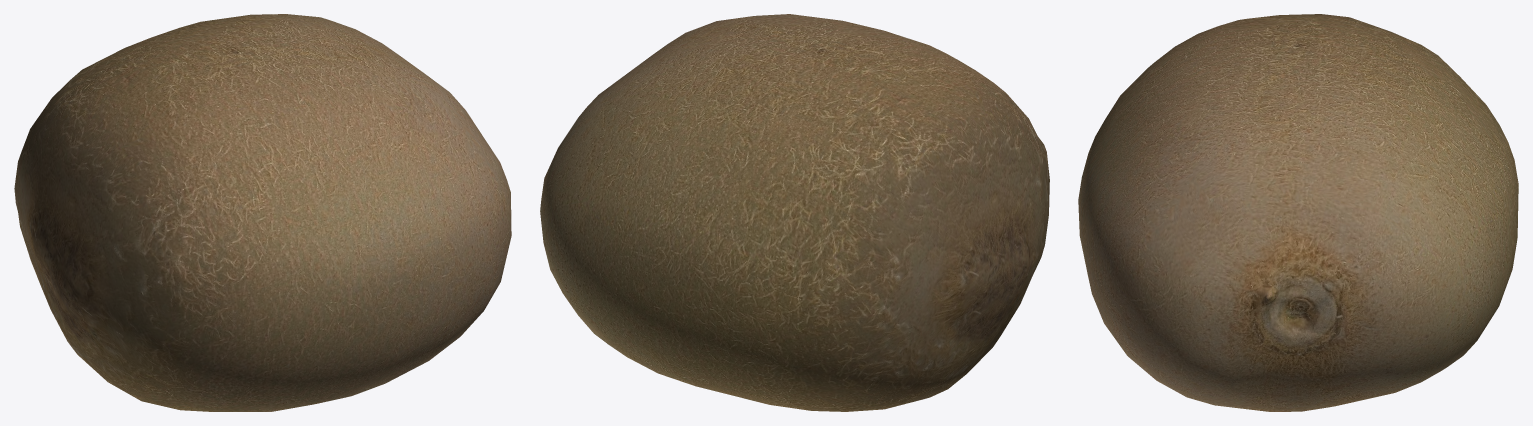
The picture shows the model from 3 angles, left to right: view 1: azimuth 30°, elevation 25°; view 2: azimuth 150°, elevation 25°; view 3: azimuth 270°, elevation 25°; orthographic projection. The views are drawn at different scales.
Visible parts, largest first — view 1: 43_kiwi; view 2: 43_kiwi; view 3: 43_kiwi.
Part boxes in pixels (bbox=[...]): 43_kiwi: bbox=[14, 14, 511, 411]; 43_kiwi: bbox=[540, 14, 1049, 411]; 43_kiwi: bbox=[1078, 14, 1518, 411].
Size of the model in its own units: 0.9908 by 0.7657 by 0.9297.
1 material, 1 textured.
